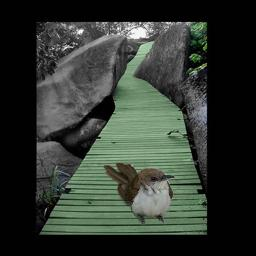Cuckoo: (103, 162, 176, 227)
